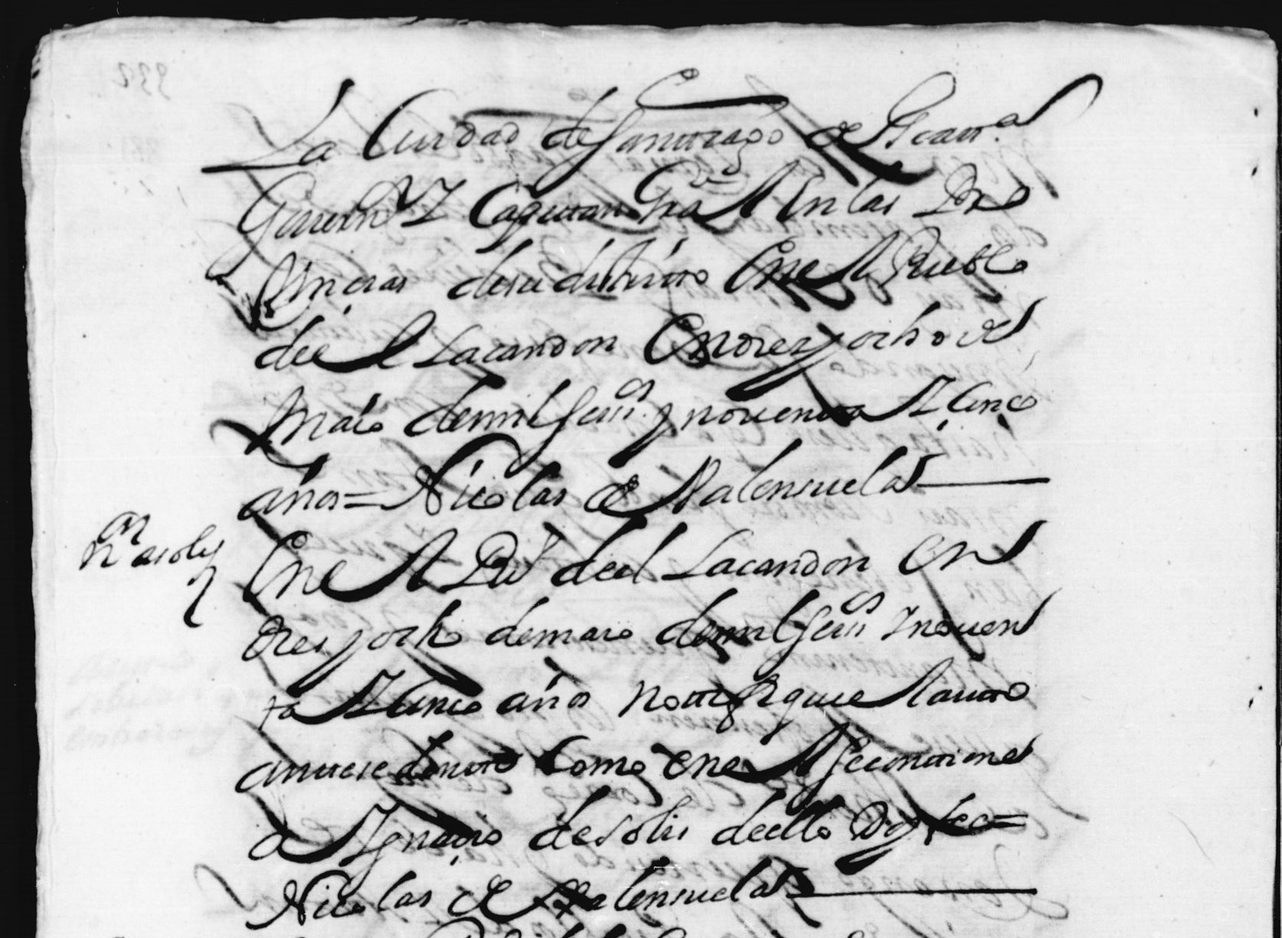lacandon: (661, 528, 869, 580), (412, 324, 617, 368)
